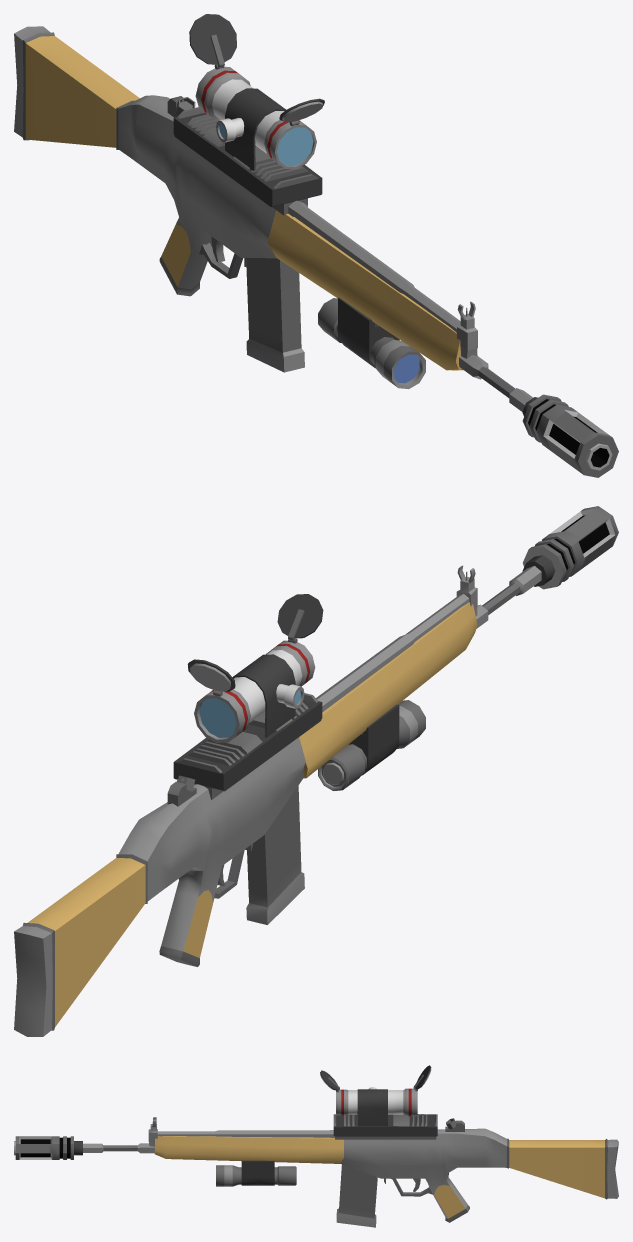
File: 24-Optic-desert-rifle.glb
The picture shows the model from 3 angles, top to bottom: view 1: azimuth 30°, elevation 25°; view 2: azimuth 150°, elevation 25°; view 3: azimuth 270°, elevation 25°; orthographic projection. The views are drawn at different scales.
Visible parts, largest first — view 1: Optic desert rifle; view 2: Optic desert rifle; view 3: Optic desert rifle.
Part boxes in pixels (bbox=[...]): Optic desert rifle: bbox=[14, 14, 618, 477]; Optic desert rifle: bbox=[14, 506, 618, 1036]; Optic desert rifle: bbox=[14, 1065, 618, 1227].
Bounding box in the file's own units: 0.064 × 0.289 × 1.
Materials: 1 (1 with a texture image).
